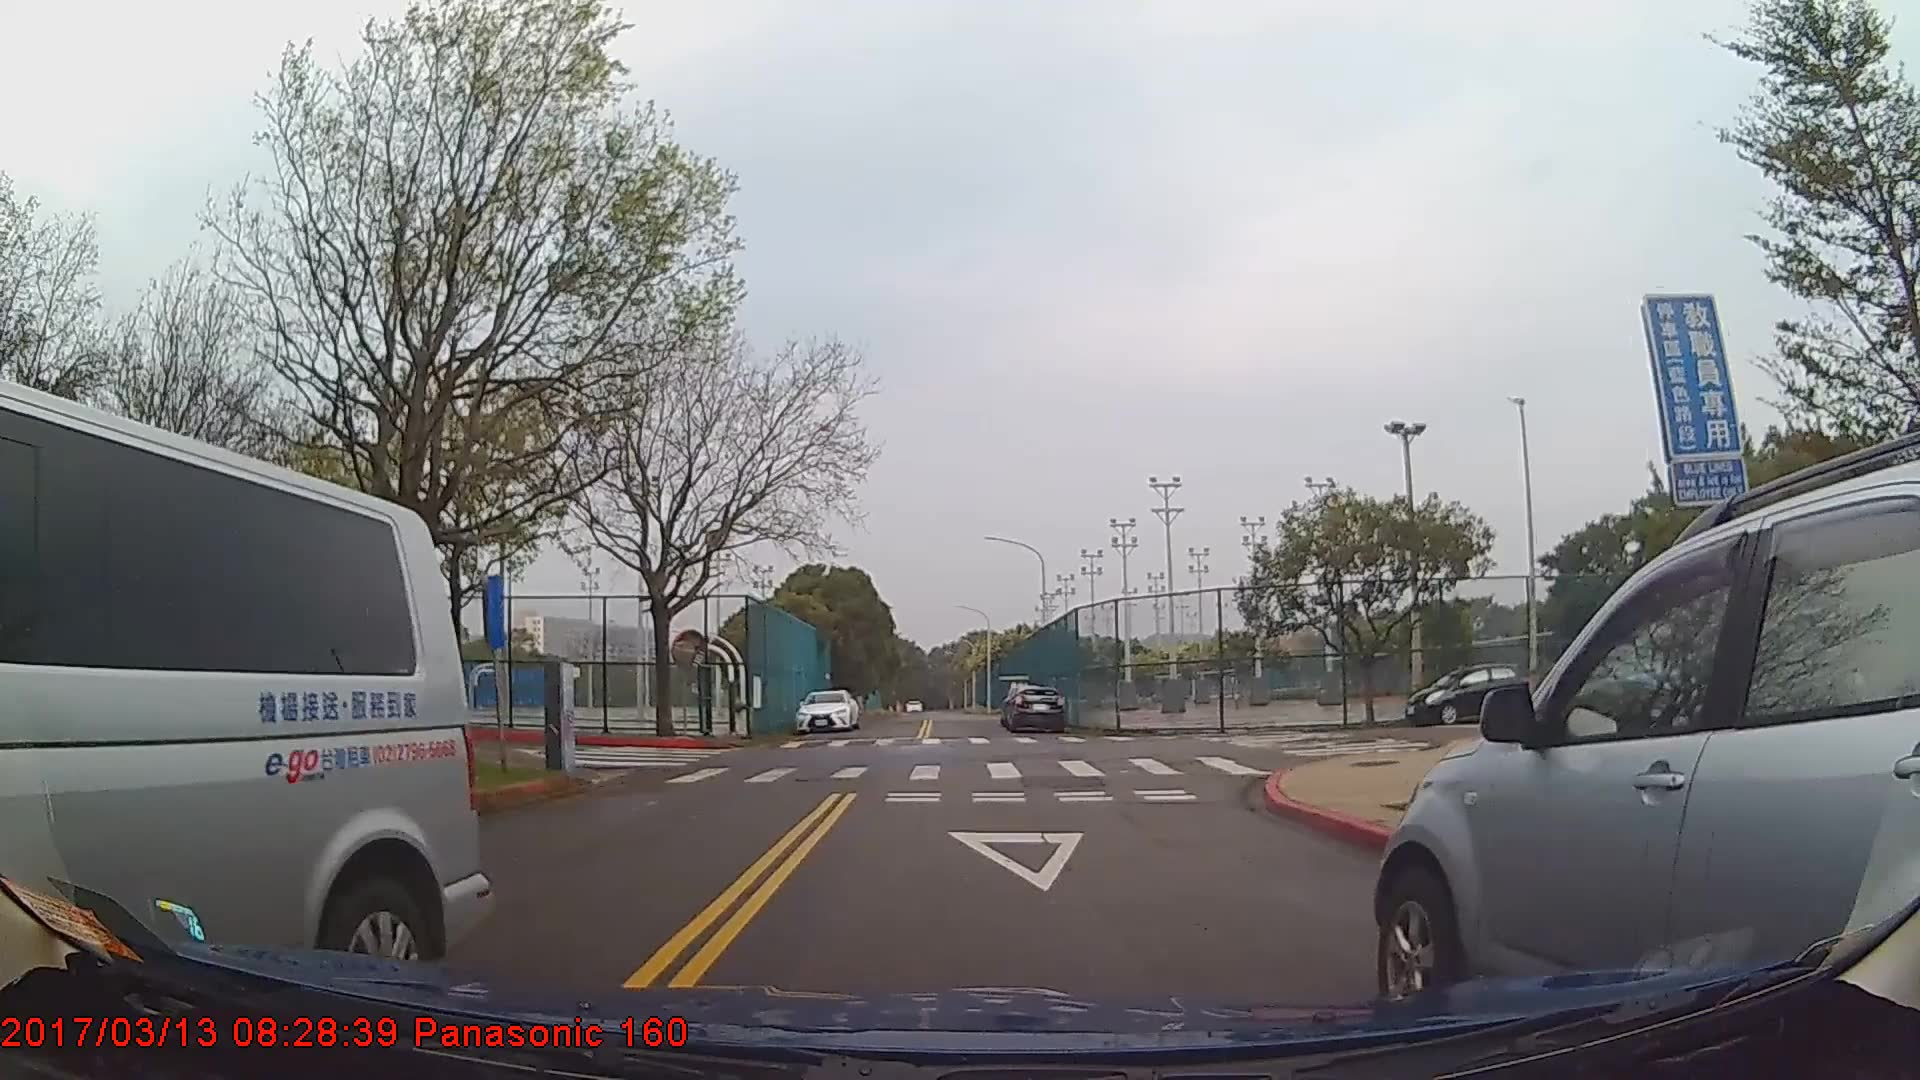vehicle: (0, 363, 485, 1033), (1375, 458, 1920, 1040), (1404, 663, 1532, 727), (1002, 682, 1065, 735), (794, 687, 858, 735)
